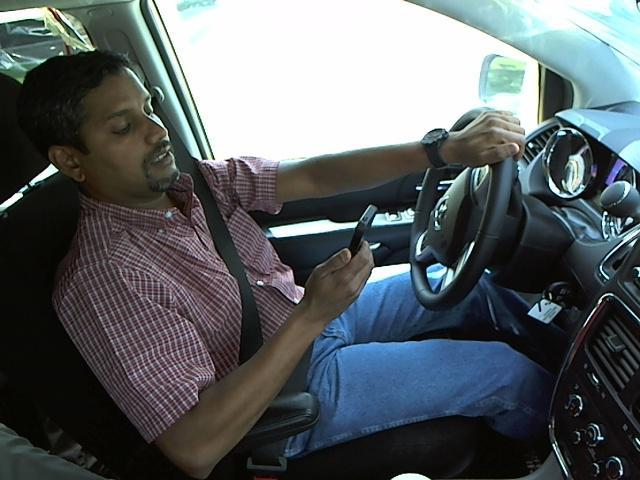PhoneUse: (345, 197, 379, 291)
